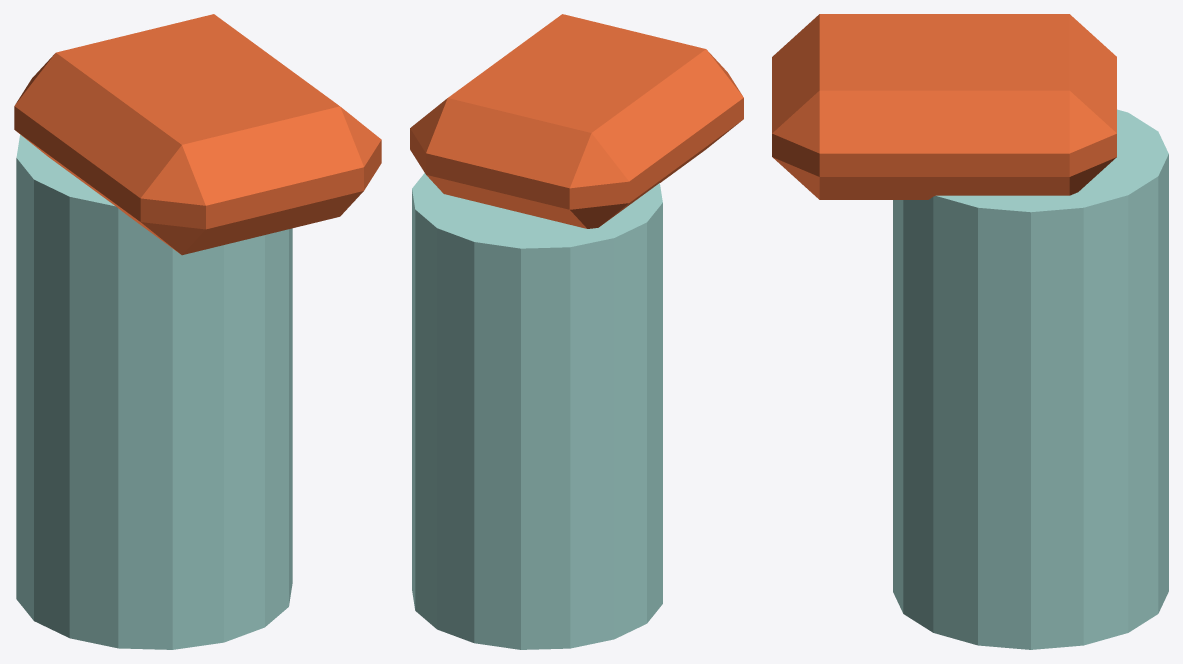
Rendered from spray.glb.
3 views of the same model, side by side, from view 1: azimuth 30°, elevation 25°; view 2: azimuth 150°, elevation 25°; view 3: azimuth 270°, elevation 25° (orthographic). The views are drawn at different scales.
Parts seen in each view (by area): view 1: bottle, trigger; view 2: bottle, trigger; view 3: bottle, trigger.
Part boxes in pixels (bbox=[...]): bottle: bbox=[16, 134, 292, 649]; trigger: bbox=[14, 14, 381, 255]; bottle: bbox=[412, 173, 662, 649]; trigger: bbox=[410, 14, 743, 228]; bottle: bbox=[893, 109, 1168, 649]; trigger: bbox=[772, 14, 1116, 199].
Size of the model in its own units: 0.32 by 0.69 by 0.46.
